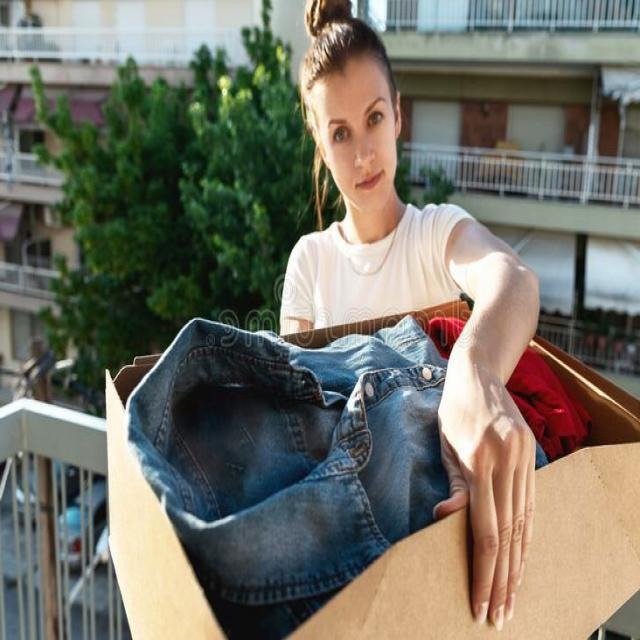clothes: (139, 294, 462, 605)
